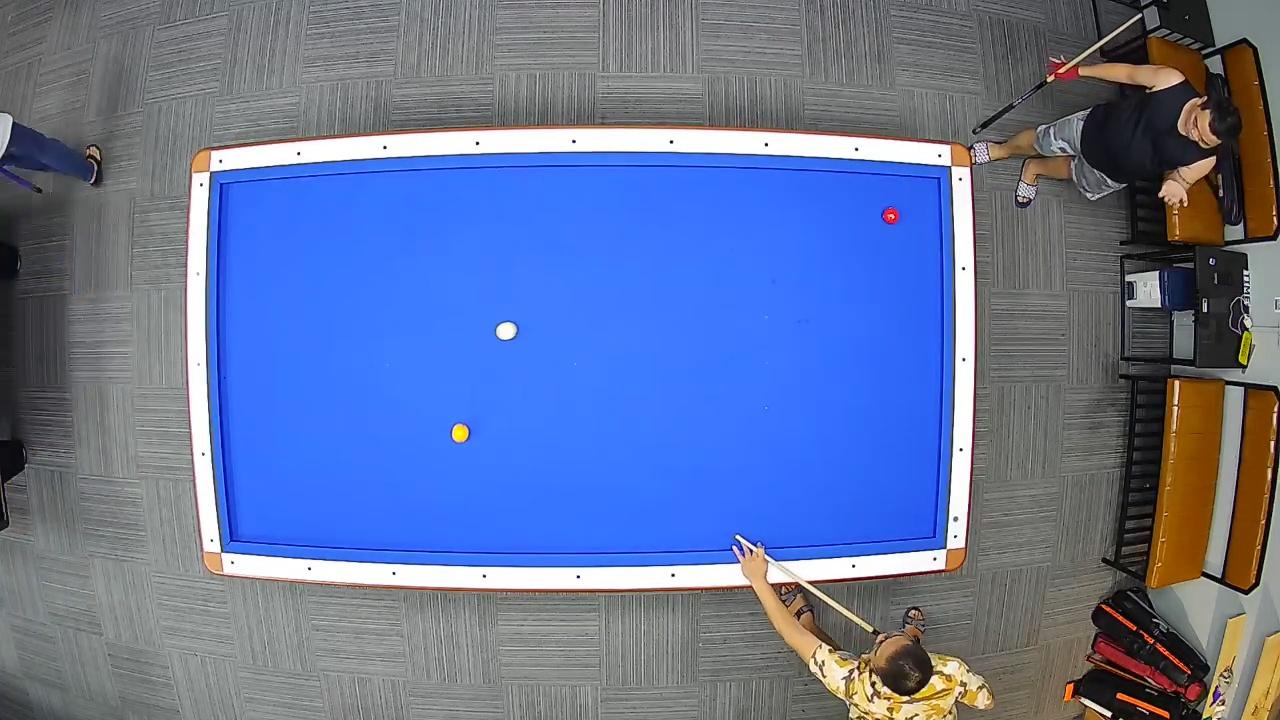Red: (880, 205, 901, 225)
White: (493, 319, 518, 342)
Yellow: (449, 422, 472, 445)
